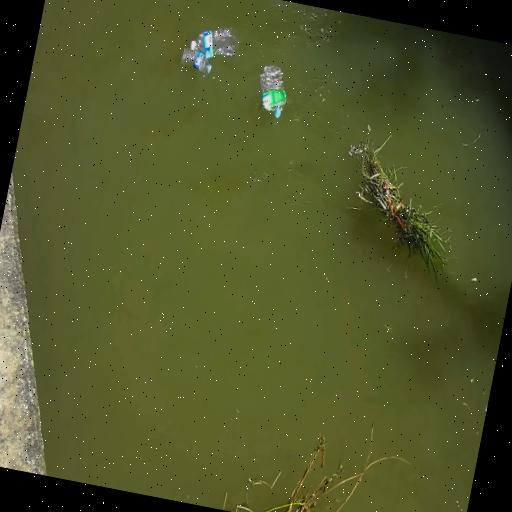plastic: (259, 65, 286, 117), (196, 28, 238, 59), (181, 48, 210, 75)
twig: (349, 126, 451, 278), (264, 424, 409, 512)
